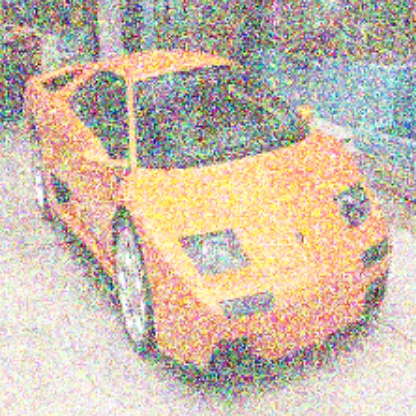Vehicle: (24, 52, 396, 378)
